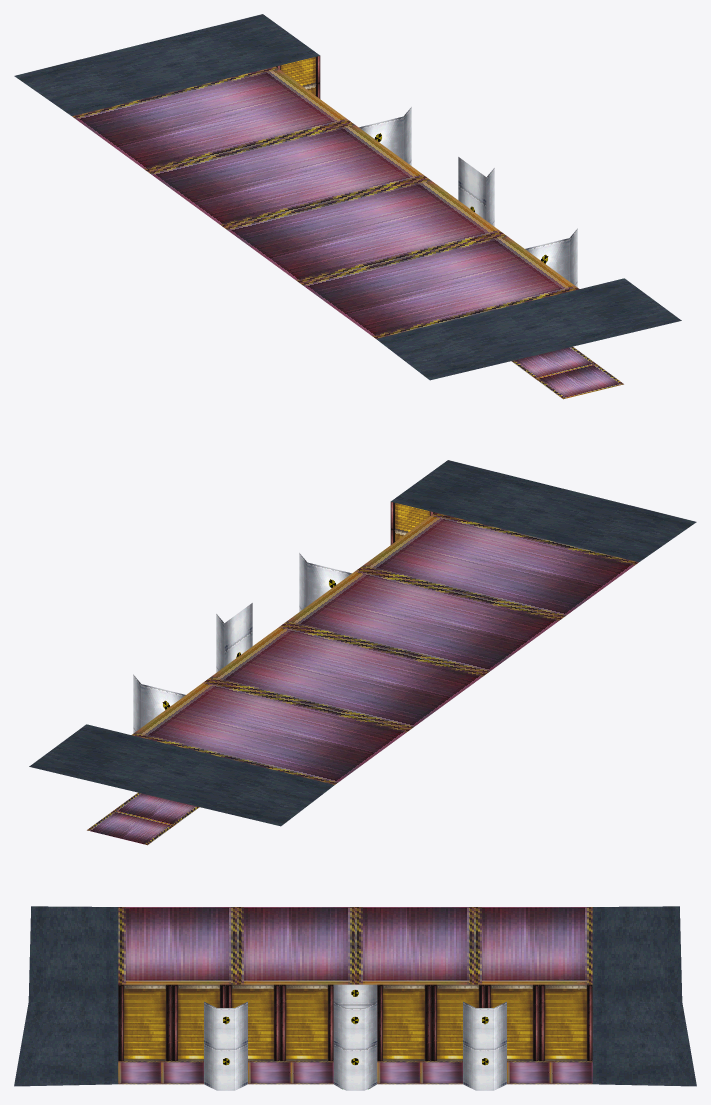
The model's file is NUCLEAR_PLANT02.glb.
The picture shows the model from 3 angles, top to bottom: view 1: azimuth 30°, elevation 25°; view 2: azimuth 150°, elevation 25°; view 3: azimuth 270°, elevation 25°; orthographic projection. The views are drawn at different scales.
Visible parts, largest first — view 1: NUCLEAR_PLANT02; view 2: NUCLEAR_PLANT02; view 3: NUCLEAR_PLANT02.
Part boxes in pixels (left/top/right/bottom): NUCLEAR_PLANT02: left=14, top=14, right=681, bottom=399; NUCLEAR_PLANT02: left=29, top=460, right=696, bottom=845; NUCLEAR_PLANT02: left=14, top=906, right=696, bottom=1090.
Bounding box in the file's own units: 5726 × 2306 × 16268.
Materials: 8 (8 with a texture image).
